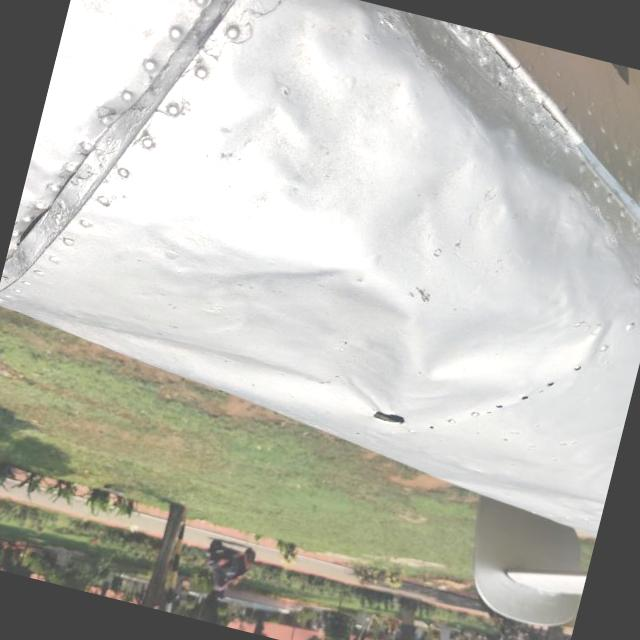dent: (201, 219, 447, 412), (399, 252, 629, 446), (188, 72, 354, 233)
